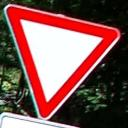preferencia: (4, 0, 122, 121)
